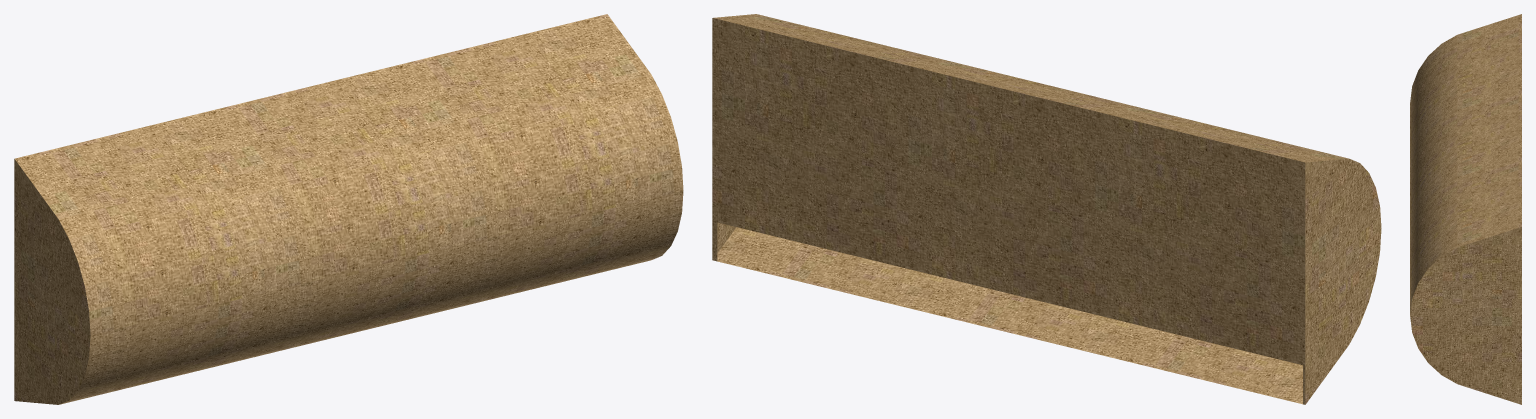
File: TargetWall.fbx
The picture shows the model from 3 angles, left to right: view 1: azimuth 30°, elevation 25°; view 2: azimuth 150°, elevation 25°; view 3: azimuth 270°, elevation 25°; orthographic projection. The views are drawn at different scales.
Visible parts, largest first — view 1: ID657; view 2: ID657; view 3: ID657.
Part boxes in pixels (left/top/right/bottom): ID657: left=14, top=14, right=683, bottom=404; ID657: left=712, top=14, right=1381, bottom=404; ID657: left=1410, top=14, right=1521, bottom=404.
Size of the model in its own units: 1143 by 446 by 254.
1 material, 1 textured.
